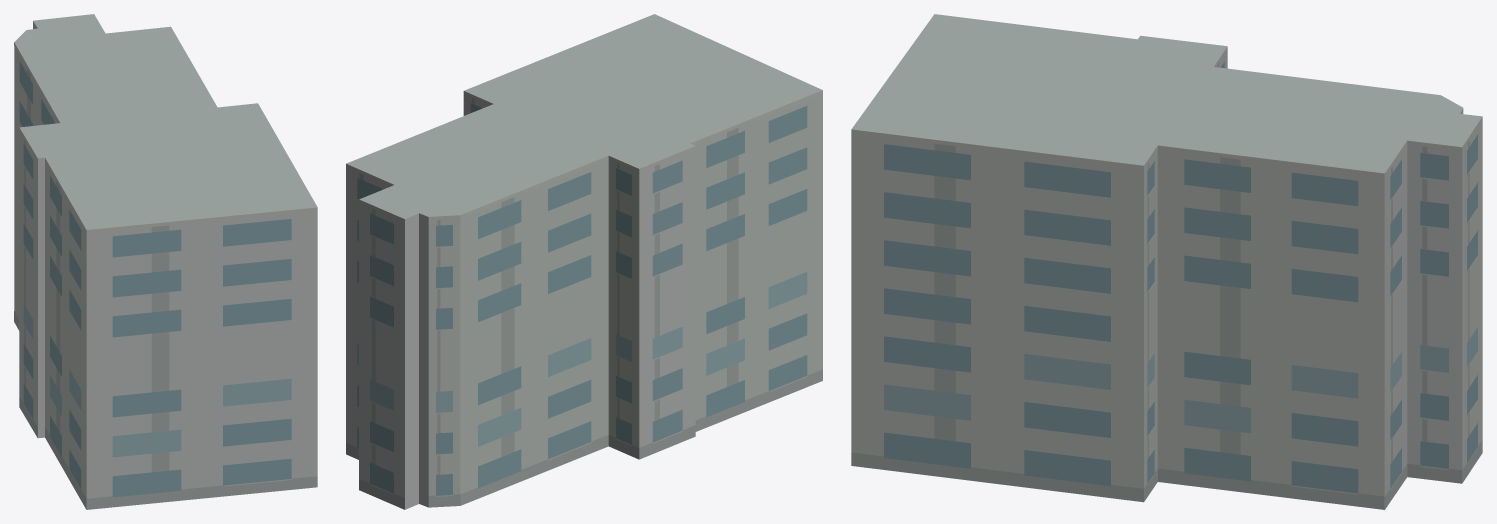
File: survey-upis-32670136.glb
The picture shows the model from 3 angles, left to right: view 1: azimuth 30°, elevation 25°; view 2: azimuth 150°, elevation 25°; view 3: azimuth 270°, elevation 25°; orthographic projection. The views are drawn at different scales.
Parts seen in each view (by area): view 1: survey-upis-32670136.tmp; view 2: survey-upis-32670136.tmp; view 3: survey-upis-32670136.tmp.
Boxes of the visible parts, <box> form: survey-upis-32670136.tmp: <box>14,14,317,509</box>; survey-upis-32670136.tmp: <box>346,14,822,509</box>; survey-upis-32670136.tmp: <box>851,14,1482,509</box>.
Bounding box in the file's own units: 20.64 × 20.3 × 34.53.
